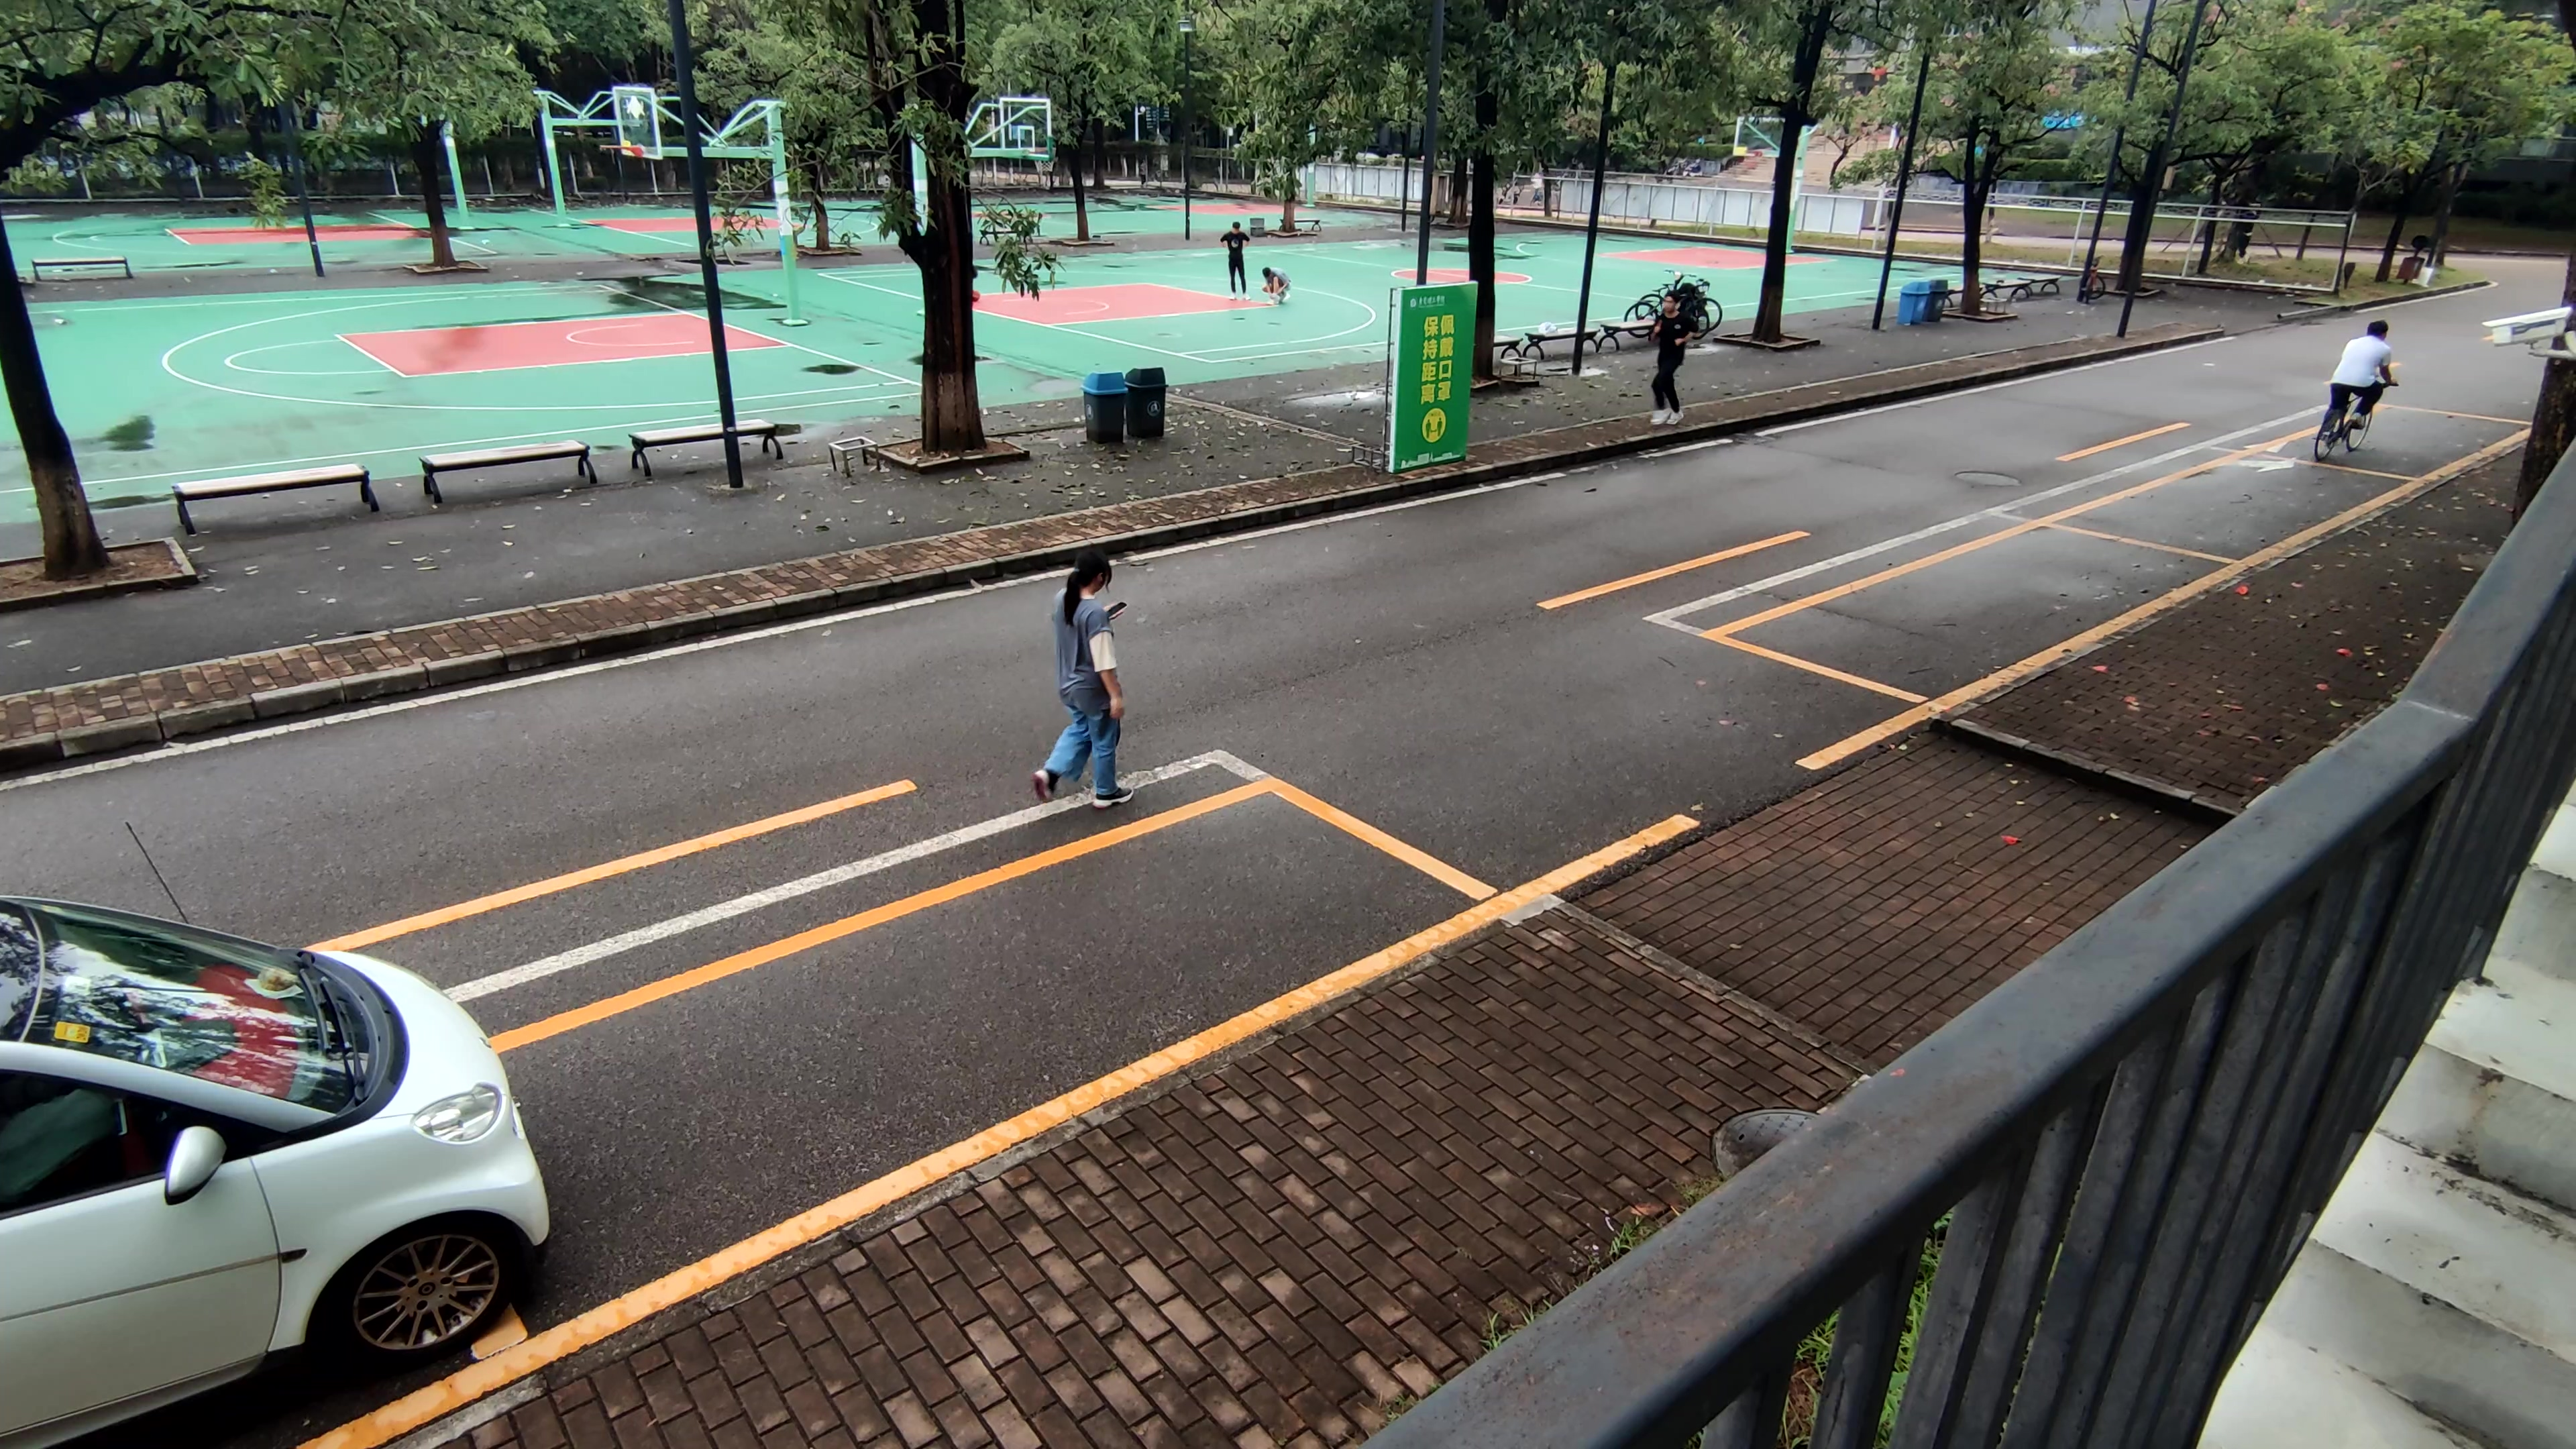space-empty: (375, 787, 1504, 1353), (1698, 511, 2249, 709), (2031, 441, 2420, 568), (2240, 389, 2541, 490)
